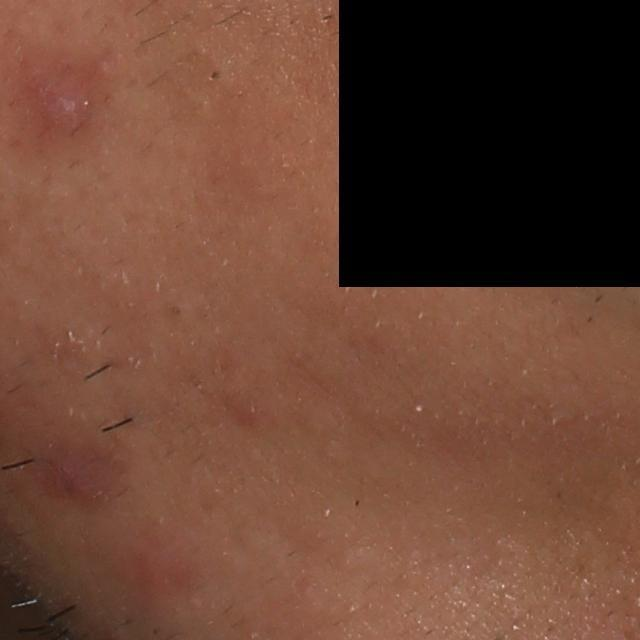comedo: (204, 66, 224, 87)
papule: (35, 75, 87, 135)
